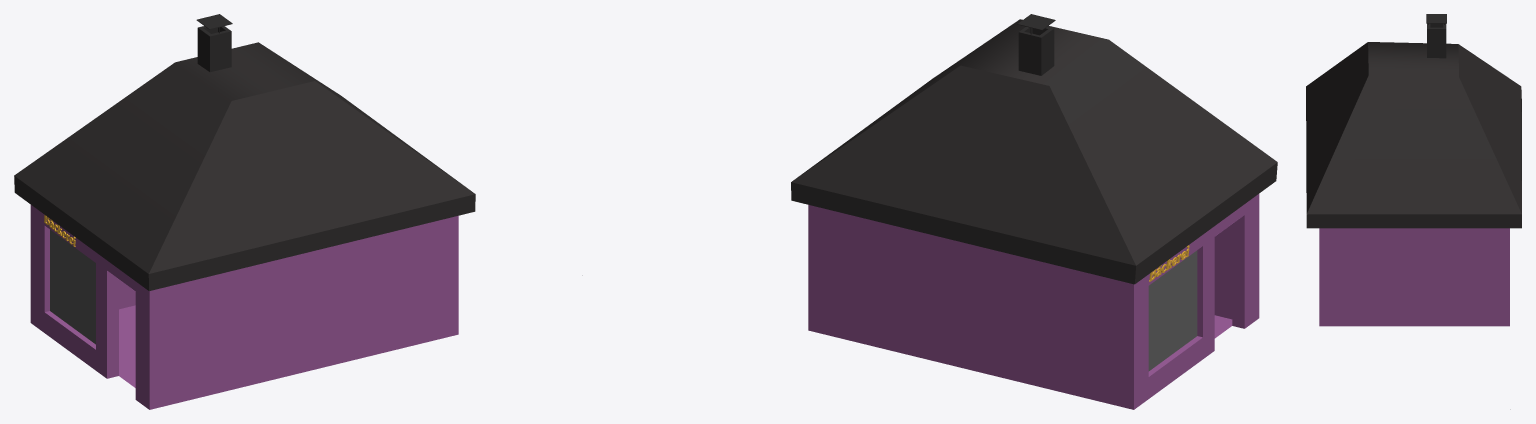
The model's file is baecker.dae.
3 renders of one model, left to right at view 1: azimuth 30°, elevation 25°; view 2: azimuth 150°, elevation 25°; view 3: azimuth 270°, elevation 25°, orthographic. The views are drawn at different scales.
Parts seen in each view (by area): view 1: roof, house, window2, kamin; view 2: roof, house, window2, kamin; view 3: roof, house, kamin, kaminOben.
Boxes of the visible parts, box(x1,y1,x2,y2) form: roof: box(14, 42, 475, 291); house: box(30, 205, 458, 409); window2: box(50, 229, 95, 344); kamin: box(197, 26, 231, 72); roof: box(791, 19, 1277, 284); house: box(808, 194, 1259, 409); window2: box(1148, 250, 1197, 371); kamin: box(1018, 26, 1054, 75); roof: box(1306, 42, 1521, 228); house: box(1319, 228, 1509, 326); kamin: box(1427, 23, 1446, 58); kaminOben: box(1426, 14, 1446, 23).
Bounding box in the file's own units: 1034 × 558 × 453.
